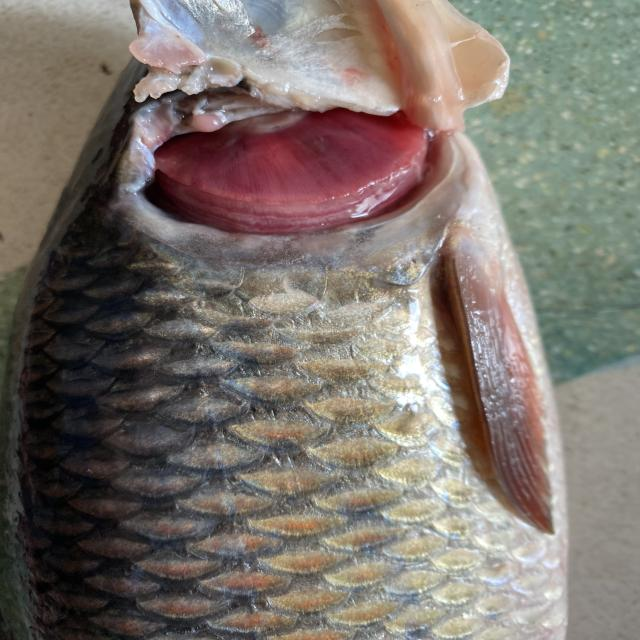Fresh: (29, 261, 516, 640), (102, 68, 502, 240)
